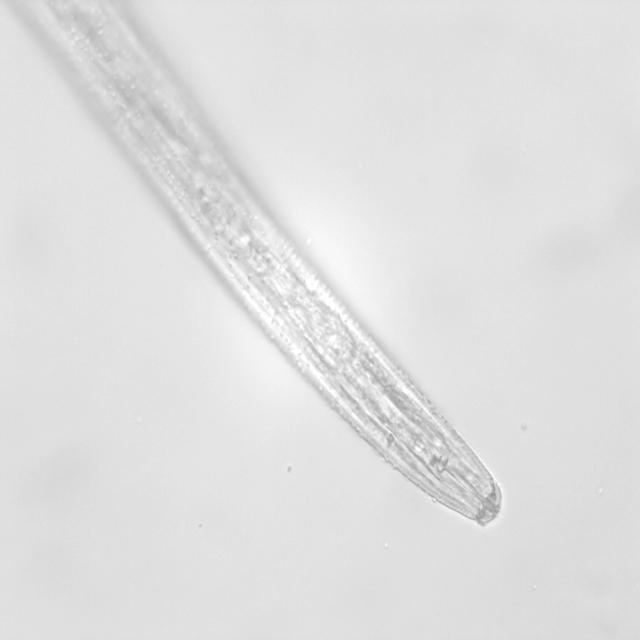Radopholus: (257, 234, 508, 542)
